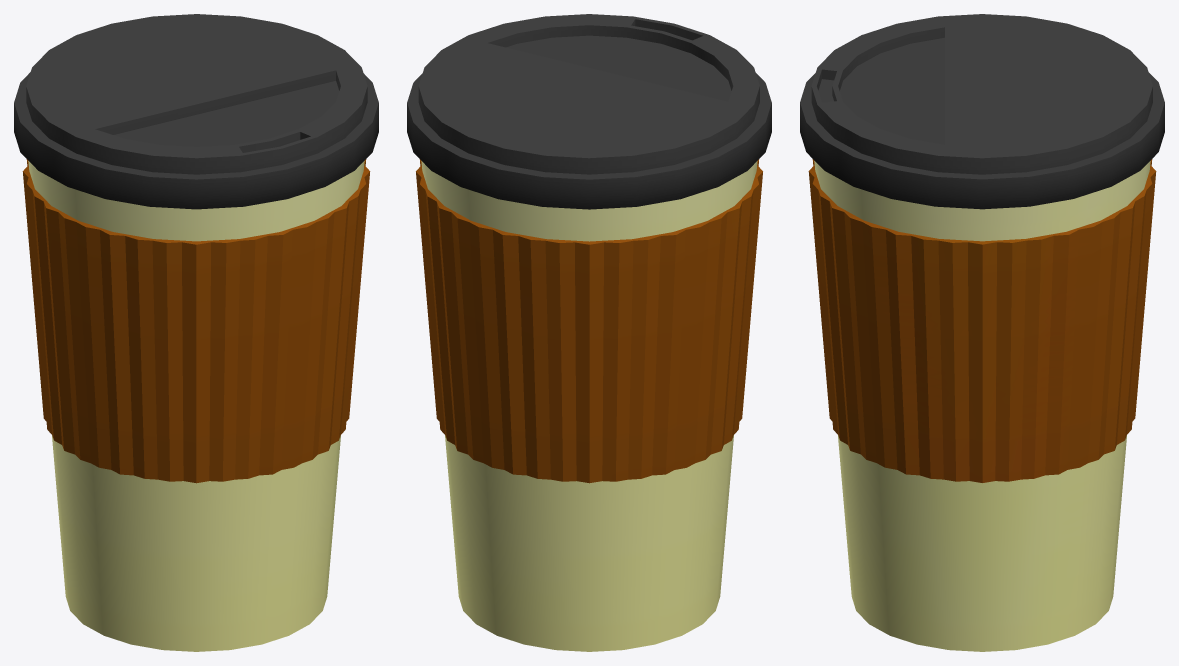
Rendered from CoffeCup.glb.
3 views of the same model, side by side, from view 1: azimuth 30°, elevation 25°; view 2: azimuth 150°, elevation 25°; view 3: azimuth 270°, elevation 25° (orthographic).
Visible parts, largest first — view 1: Coffe_cup_1; view 2: Coffe_cup_1; view 3: Coffe_cup_1.
Boxes of the visible parts, bbox=[...] form: Coffe_cup_1: bbox=[14, 14, 378, 651]; Coffe_cup_1: bbox=[407, 14, 771, 651]; Coffe_cup_1: bbox=[800, 14, 1164, 651].
Bounding box in the file's own units: 1.28 × 1.97 × 1.28.
Materials: 1 (1 with a texture image).
